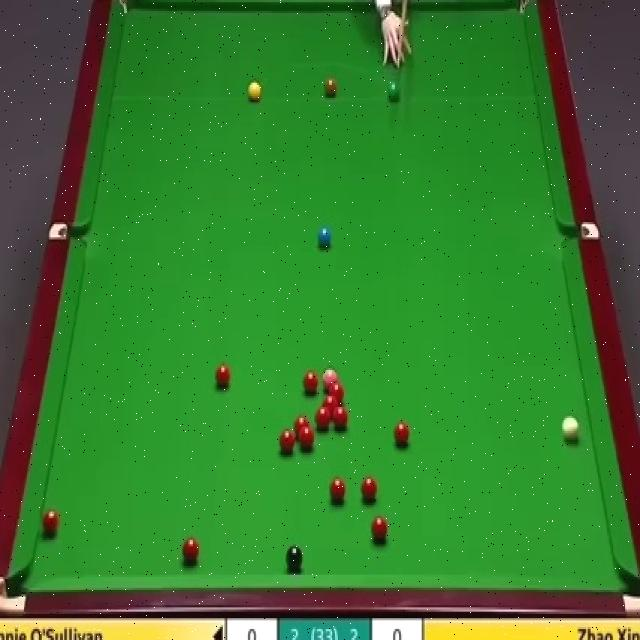black-ball: (286, 542, 303, 572)
blue-ball: (316, 225, 332, 251)
brown-ball: (324, 79, 336, 98)
green-ball: (388, 81, 400, 102)
pink-ball: (322, 368, 339, 387)
red-ball: (182, 537, 201, 565), (370, 516, 388, 544), (302, 369, 320, 397), (42, 508, 58, 536), (360, 478, 378, 502), (394, 422, 411, 447), (299, 426, 316, 450), (329, 478, 346, 502), (215, 362, 230, 388), (280, 430, 295, 452), (314, 408, 331, 427), (293, 414, 309, 433), (333, 407, 348, 426), (321, 395, 340, 409), (328, 384, 347, 396)
white-ball: (561, 413, 579, 441)
yellow-ball: (247, 80, 263, 102)
